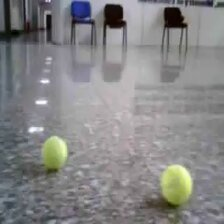tennis: (160, 165, 192, 204), (42, 136, 65, 167)
